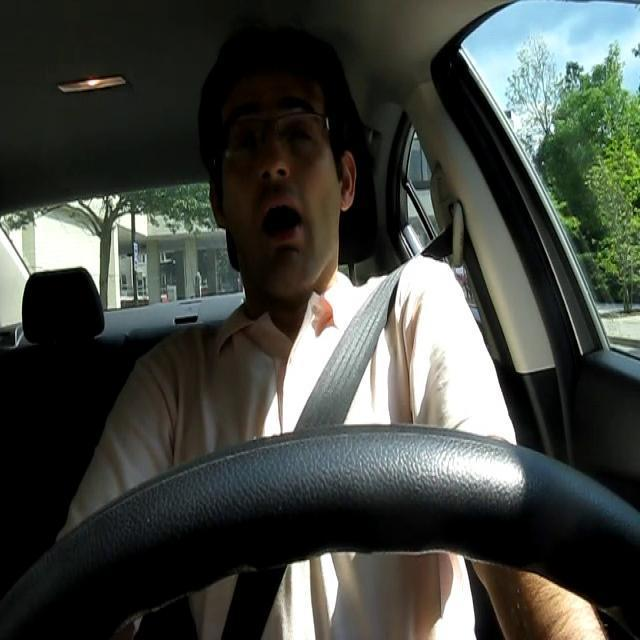open-mouth: (250, 197, 310, 246)
